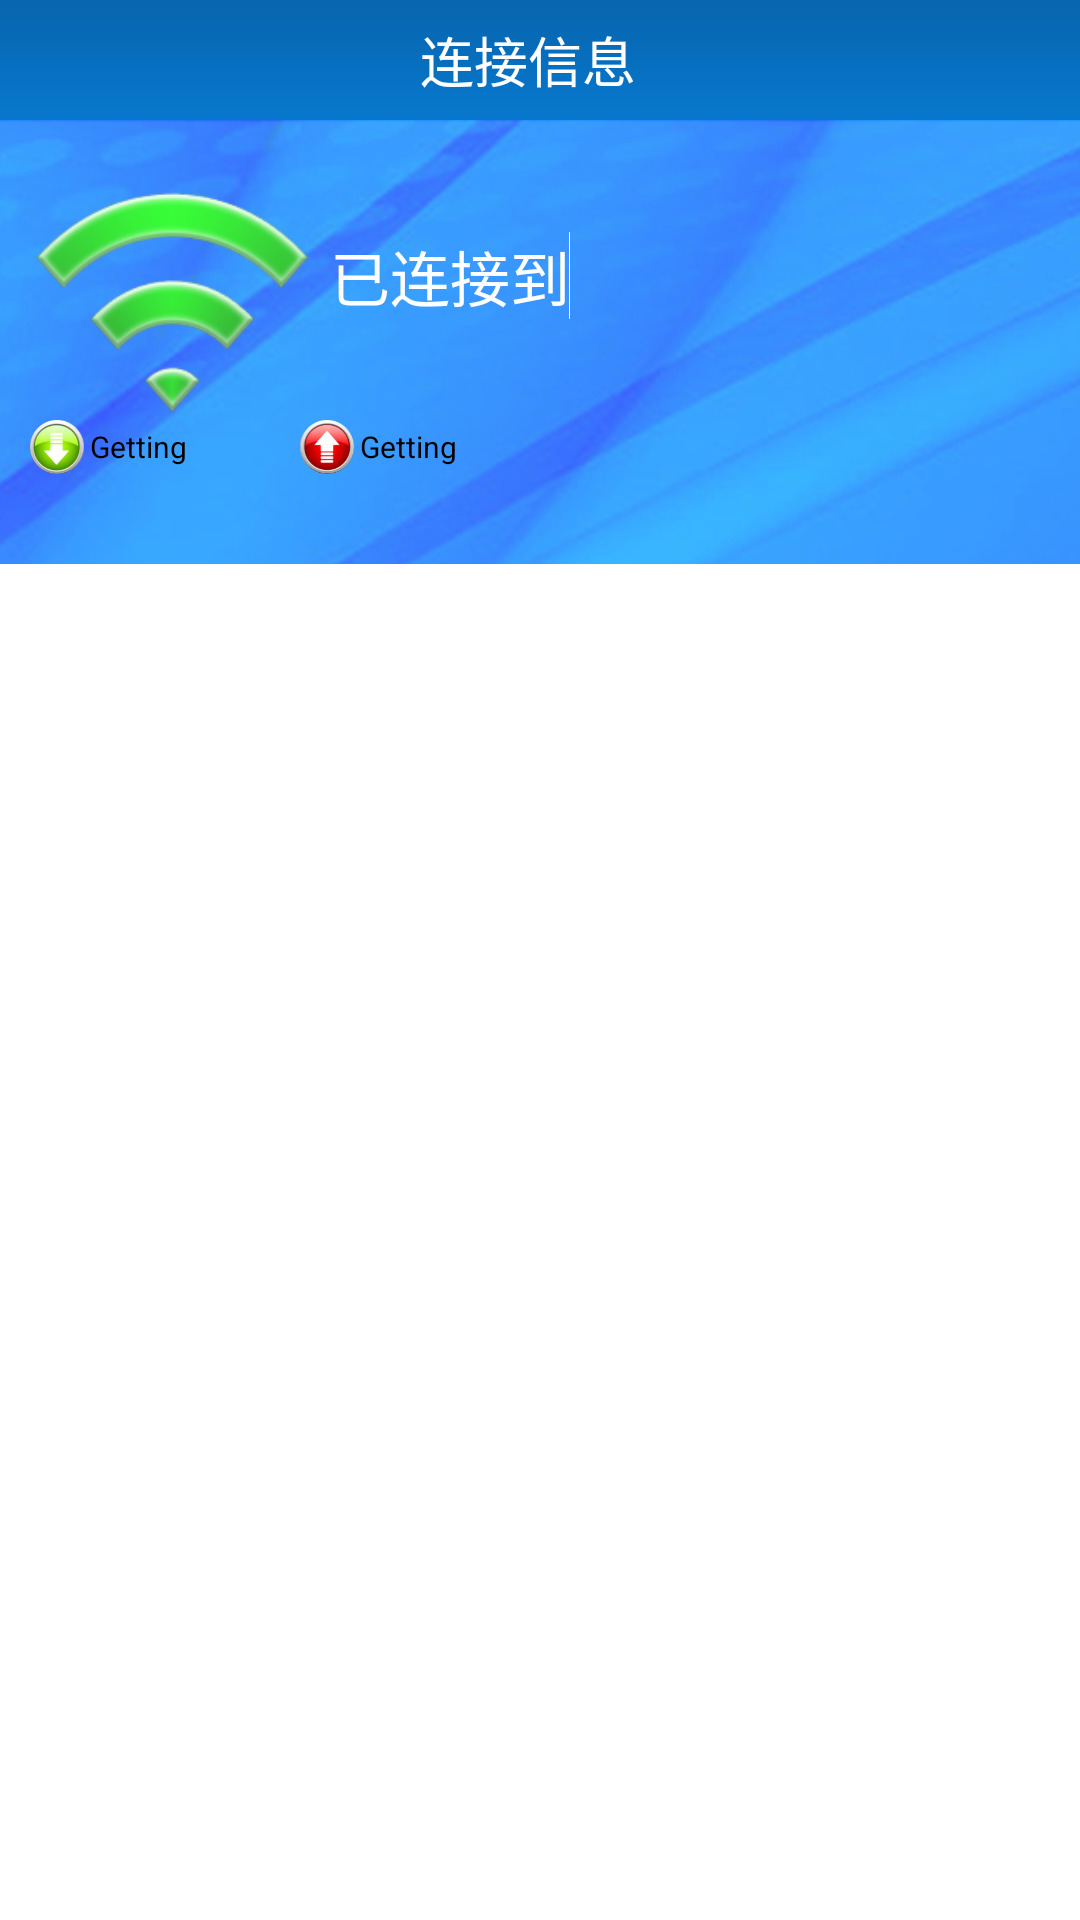

Named icons in this screenshot (1080 × 1920) and their centers, (x=x, y=y):
down: (x=57, y=447)
